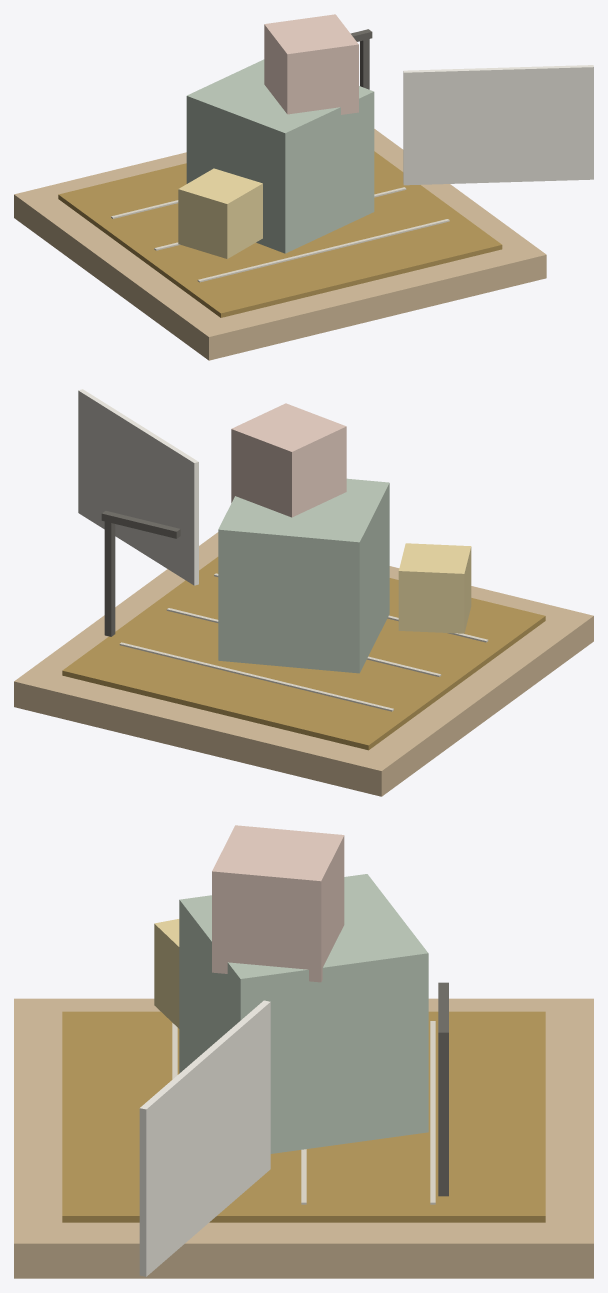
File: modeling.gltf
3 views of the same model, one above another, from view 1: azimuth 30°, elevation 25°; view 2: azimuth 150°, elevation 25°; view 3: azimuth 270°, elevation 25° (orthographic). The views are drawn at different scales.
Parts seen in each view (by area): view 1: TurntableBase, TurntableRing, hotspot_sculpture, hotspot_model_card, SculptureTop, SculptureSide, GridC, CaliperA; view 2: TurntableRing, TurntableBase, hotspot_sculpture, hotspot_model_card, SculptureTop, SculptureSide, CaliperA, GridA, CaliperB; view 3: TurntableRing, TurntableBase, hotspot_sculpture, hotspot_model_card, SculptureTop, SculptureSide, CaliperA, GridA, CaliperB.
Part boxes in pixels (box(x1,y1,x2,y2)): TurntableBase: box(14, 129, 546, 360); TurntableRing: box(58, 151, 502, 317); hotspot_sculpture: box(186, 59, 374, 253); hotspot_model_card: box(403, 65, 593, 185); SculptureTop: box(264, 14, 358, 114); SculptureSide: box(178, 168, 262, 258); GridC: box(197, 219, 449, 282); CaliperA: box(360, 30, 369, 89); TurntableRing: box(62, 557, 545, 750); TurntableBase: box(14, 532, 593, 796); hotspot_sculpture: box(218, 478, 389, 673); hotspot_model_card: box(78, 389, 198, 585); SculptureTop: box(231, 403, 346, 517); SculptureSide: box(398, 543, 471, 633); CaliperA: box(104, 512, 115, 636); GridA: box(119, 642, 393, 711); CaliperB: box(101, 511, 180, 538); TurntableRing: box(62, 1011, 545, 1222); TurntableBase: box(14, 998, 593, 1278); hotspot_sculpture: box(179, 874, 428, 1153); hotspot_model_card: box(139, 1000, 270, 1276); SculptureTop: box(212, 825, 344, 982); SculptureSide: box(154, 919, 179, 1028); CaliperA: box(438, 1026, 448, 1196); GridA: box(430, 1021, 435, 1204); CaliperB: box(438, 982, 448, 1042).
Bounding box in the file's own units: 3.43 × 1.64 × 2.7.
